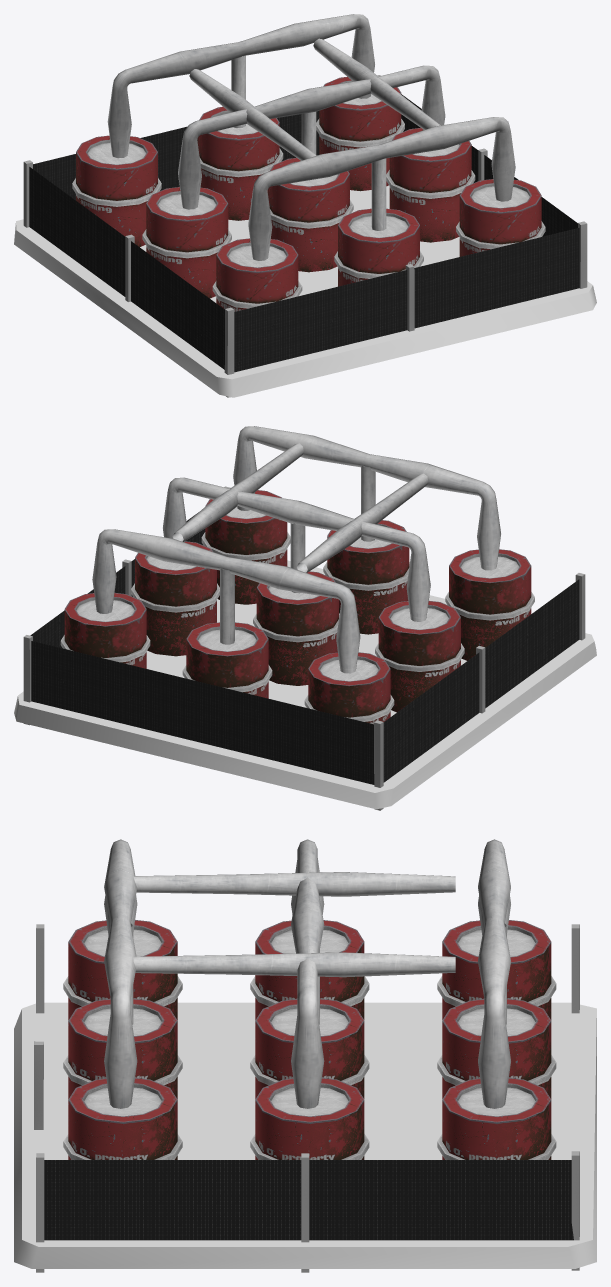
Rendered from OilFabric1.fbx.
3 views of the same model, one above another, from view 1: azimuth 30°, elevation 25°; view 2: azimuth 150°, elevation 25°; view 3: azimuth 270°, elevation 25° (orthographic). The views are drawn at different scales.
Parts seen in each view (by area): view 1: ProduceMain, ProduceBarrels, ProducePipes; view 2: ProduceMain, ProduceBarrels, ProducePipes; view 3: ProduceMain, ProduceBarrels, ProducePipes.
Part boxes in pixels (bbox=[...]): ProduceMain: bbox=[14, 75, 596, 397]; ProduceBarrels: bbox=[72, 55, 545, 311]; ProducePipes: bbox=[107, 14, 515, 260]; ProduceMain: bbox=[14, 486, 596, 810]; ProduceBarrels: bbox=[60, 465, 534, 724]; ProducePipes: bbox=[92, 426, 500, 673]; ProduceMain: bbox=[14, 924, 596, 1272]; ProduceBarrels: bbox=[63, 920, 556, 1159]; ProducePipes: bbox=[104, 839, 510, 1108].
Size of the model in its own units: 1.42 by 0.6801 by 1.43.
